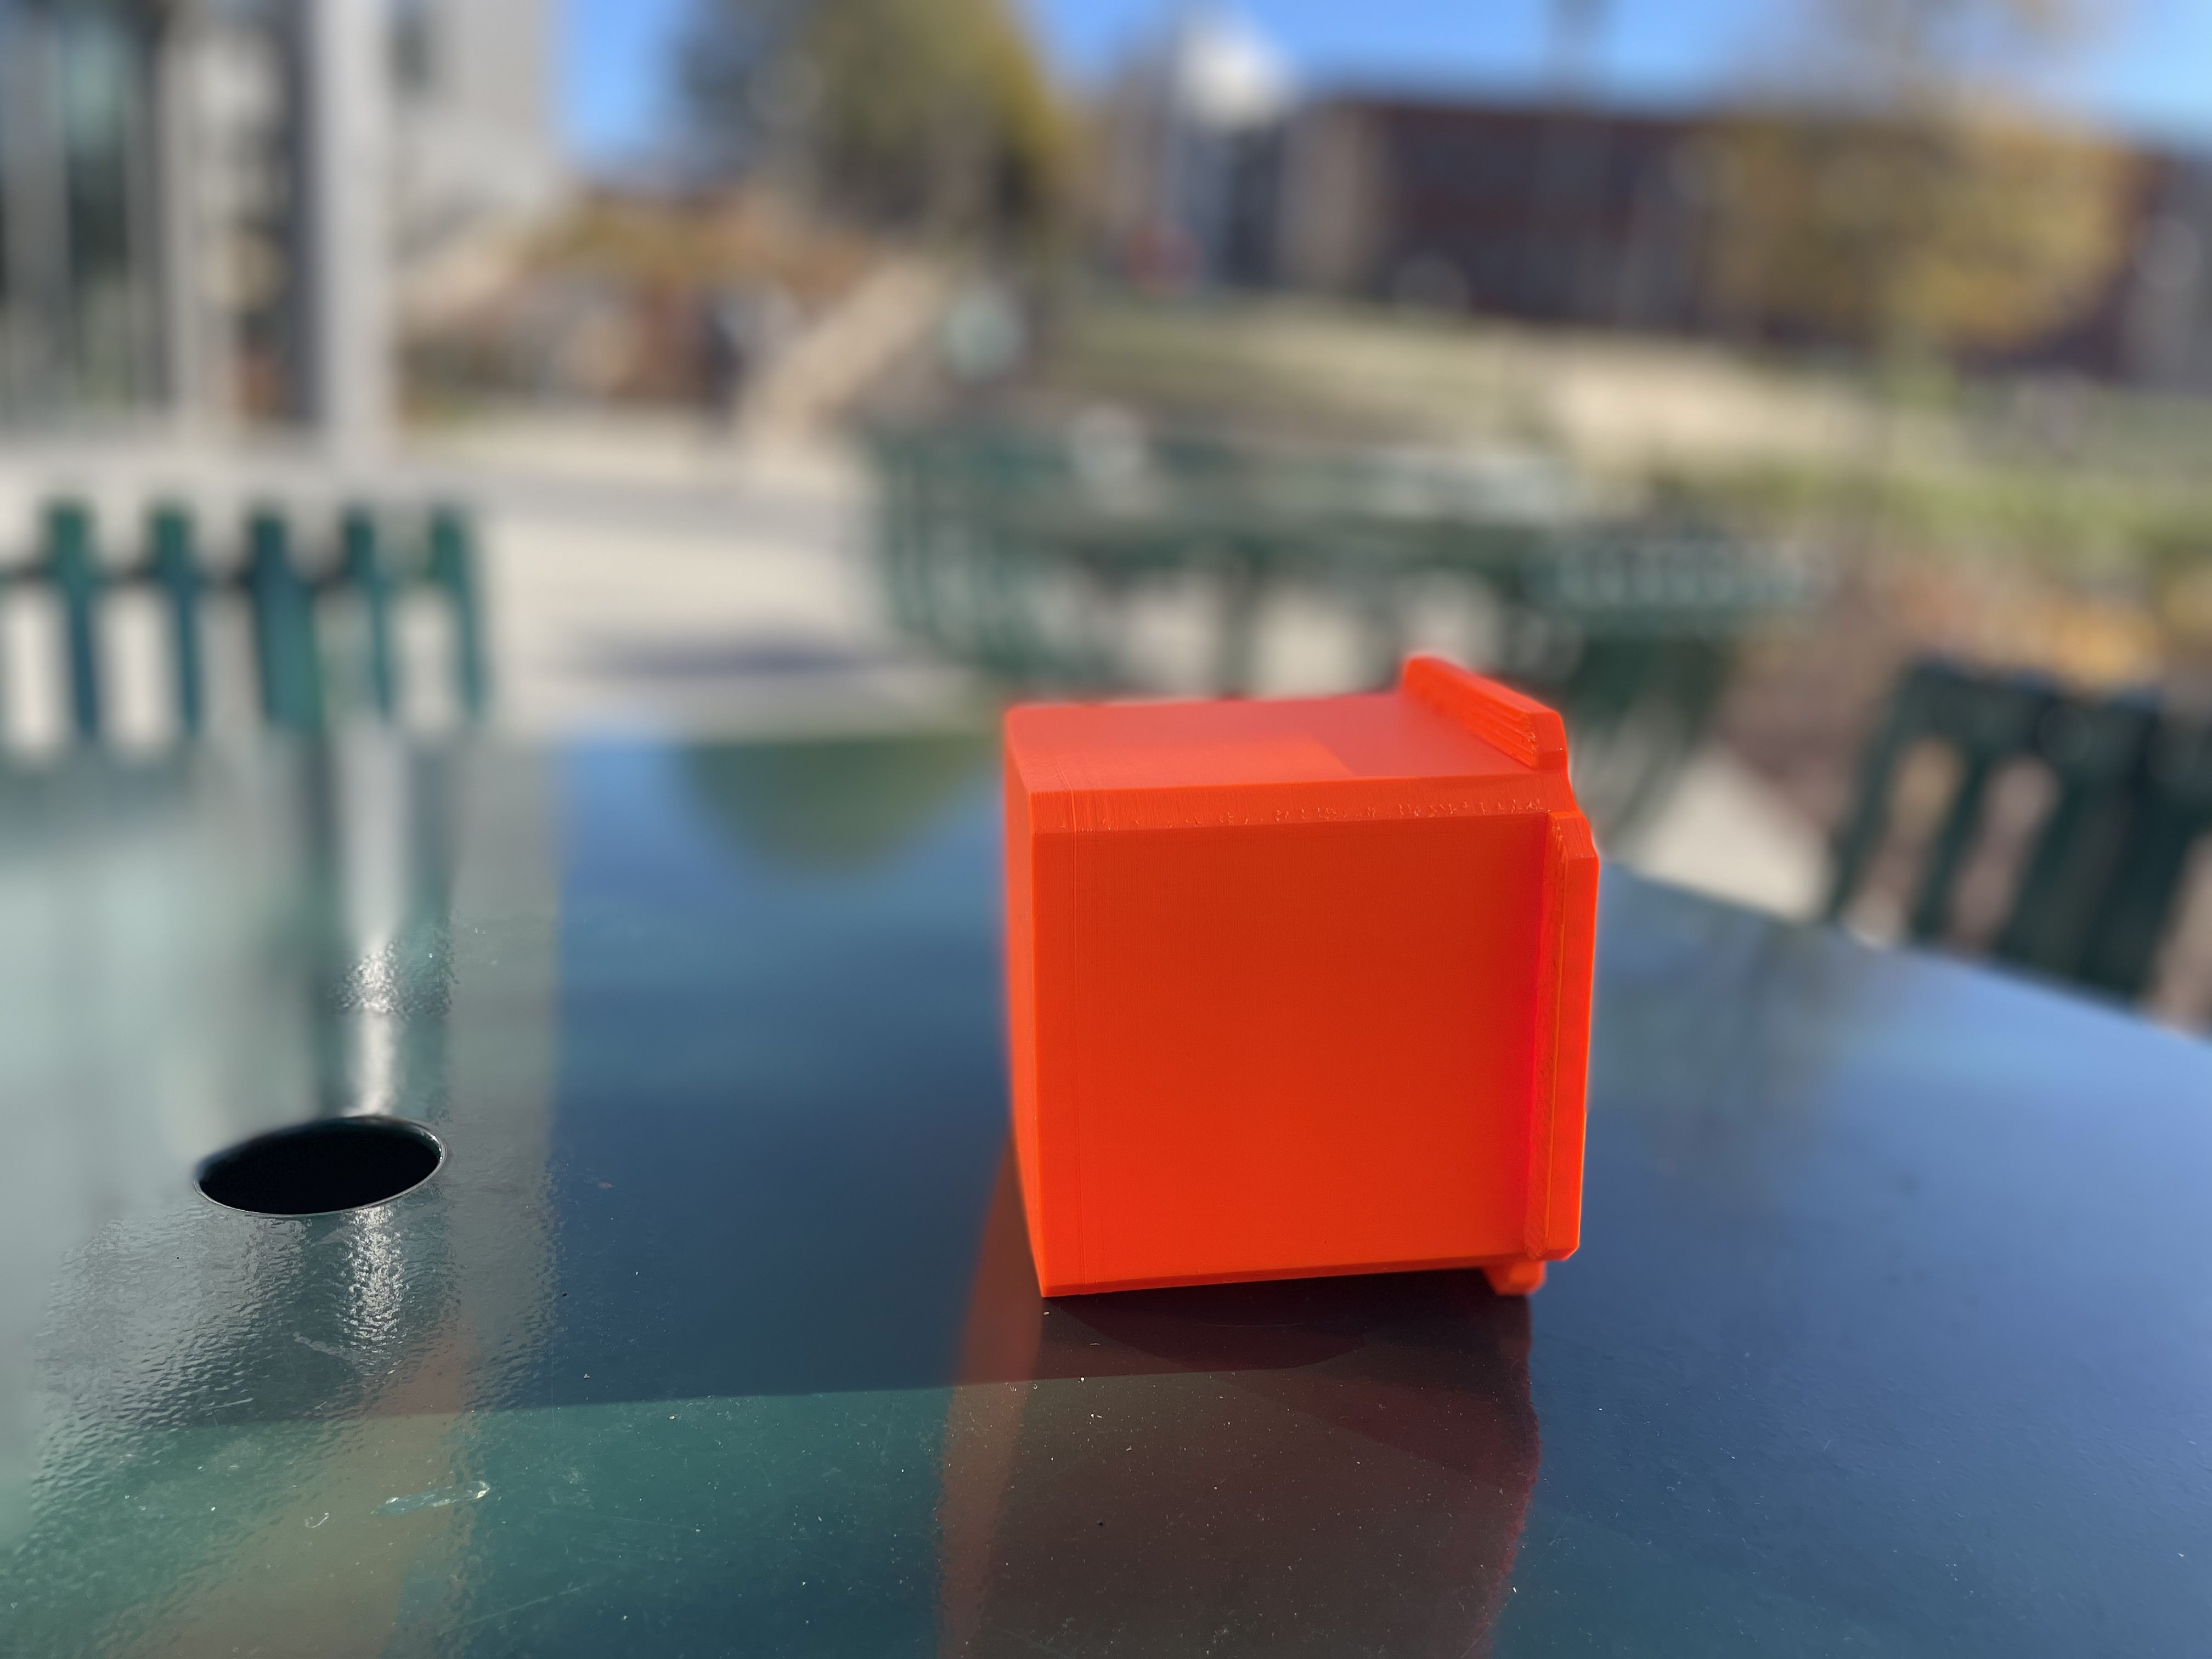payload1: (942, 636, 1651, 1358)
